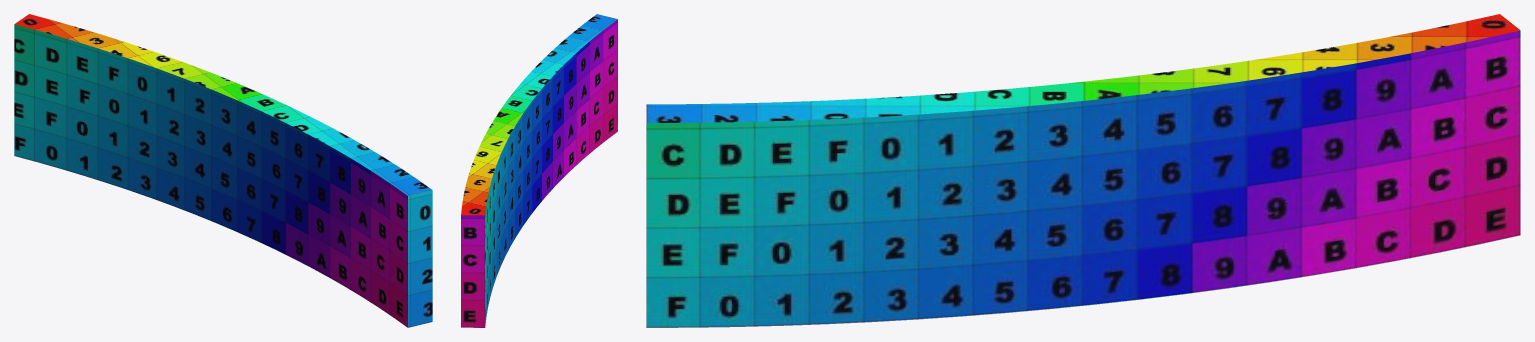
The model's file is short thin arc.dae.
3 views of the same model, side by side, from view 1: azimuth 30°, elevation 25°; view 2: azimuth 150°, elevation 25°; view 3: azimuth 270°, elevation 25° (orthographic). The views are drawn at different scales.
Visible parts, largest first — view 1: SketchUp; view 2: SketchUp; view 3: SketchUp.
Part boxes in pixels (bbox=[...]): SketchUp: bbox=[14, 14, 432, 327]; SketchUp: bbox=[461, 14, 617, 327]; SketchUp: bbox=[646, 14, 1520, 327].
Size of the model in its own units: 32.1 by 109 by 28.12.
